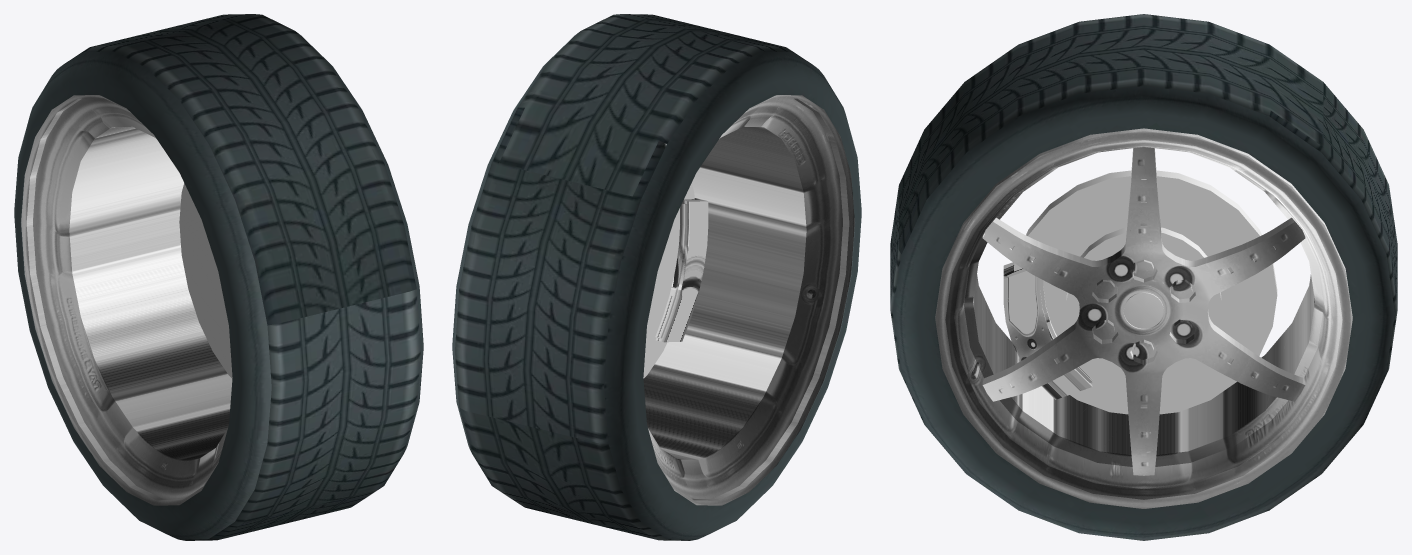
Rendered from Nissan_350Z_RuedaPilot.obj.
The picture shows the model from 3 angles, left to right: view 1: azimuth 30°, elevation 25°; view 2: azimuth 150°, elevation 25°; view 3: azimuth 270°, elevation 25°; orthographic projection.
Parts seen in each view (by area): view 1: LlantaCopiloto001, RinCopiloto001; view 2: LlantaCopiloto001, RinCopiloto001; view 3: RinCopiloto001, LlantaCopiloto001.
Part boxes in pixels (<box>): LlantaCopiloto001: <box>14,14,423,540</box>; RinCopiloto001: <box>21,95,232,505</box>; LlantaCopiloto001: <box>452,14,861,540</box>; RinCopiloto001: <box>643,95,854,505</box>; RinCopiloto001: <box>935,128,1352,508</box>; LlantaCopiloto001: <box>890,14,1397,540</box>.
Size of the model in its own units: 1.43 by 3.46 by 3.46.
